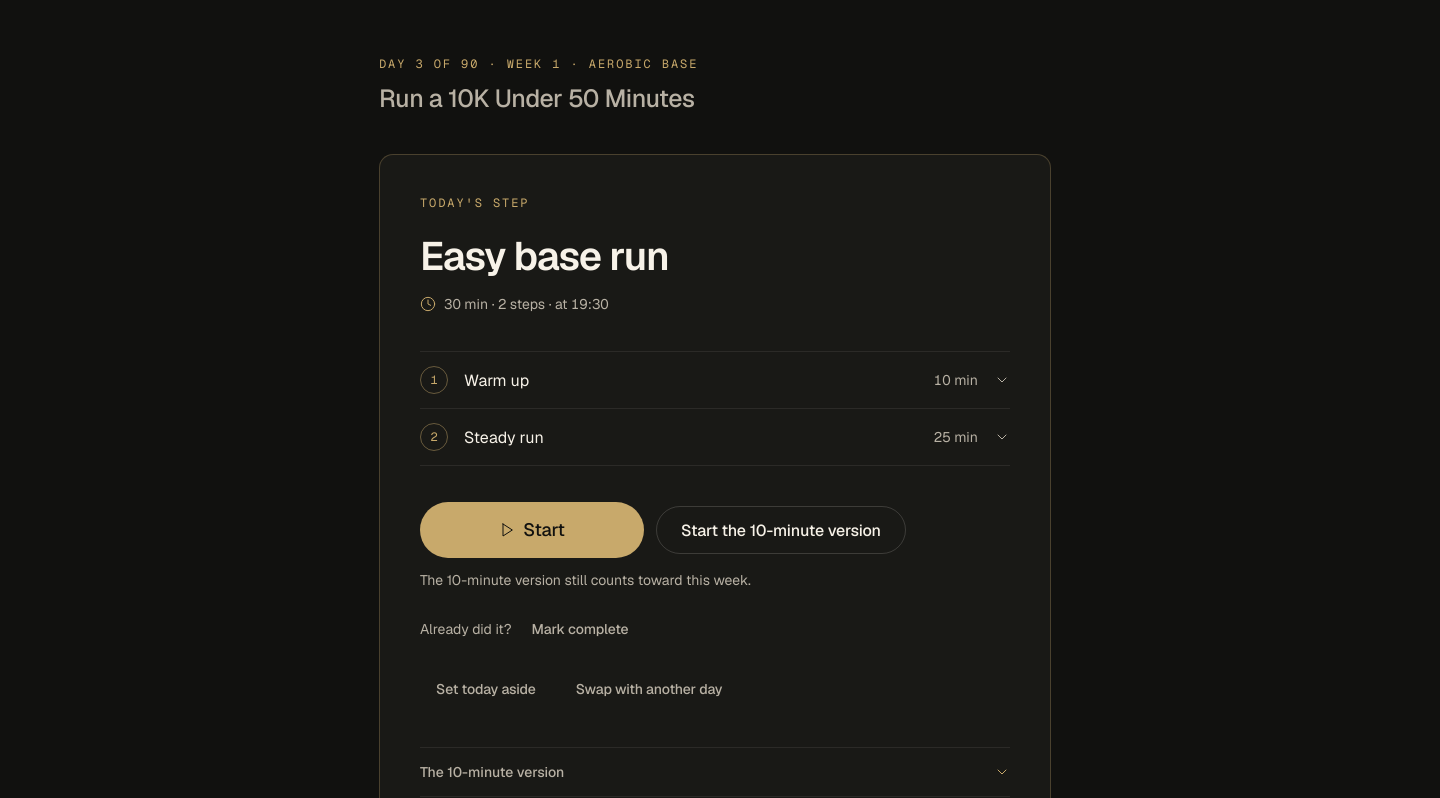
Test: Today › short on time and gentle return (missed sessions M3.2) › short on time: Start stays first, the 10-minute version is one tap away, with its line under the buttons
Expected: the text "The 10-minute version still counts toward this week." is shown, [420,572,751,590]
Click the button "Start the 10-minute version": (781, 530) [656,506,906,554]
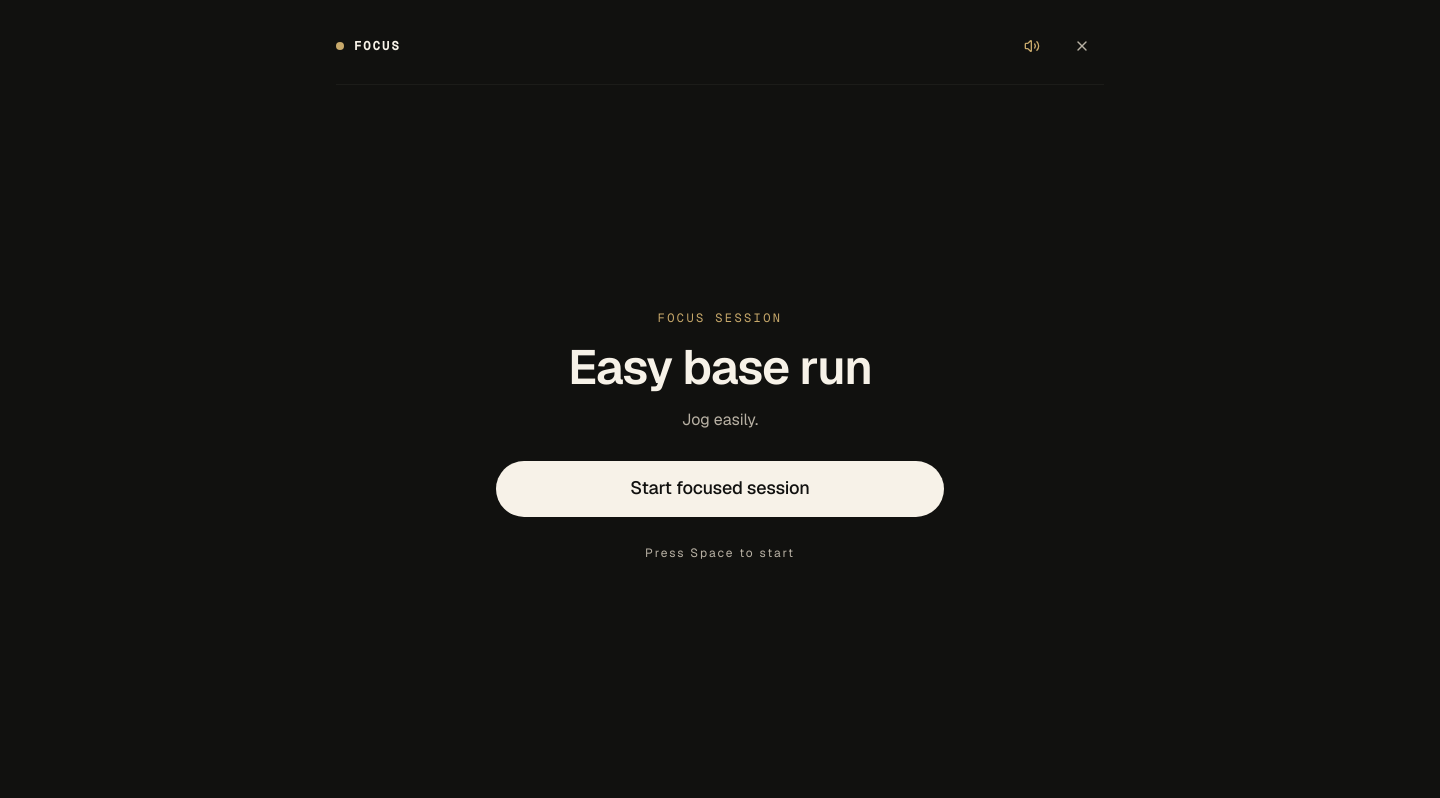
Click the button "Start focused session": (720, 488) [496,460,944,516]
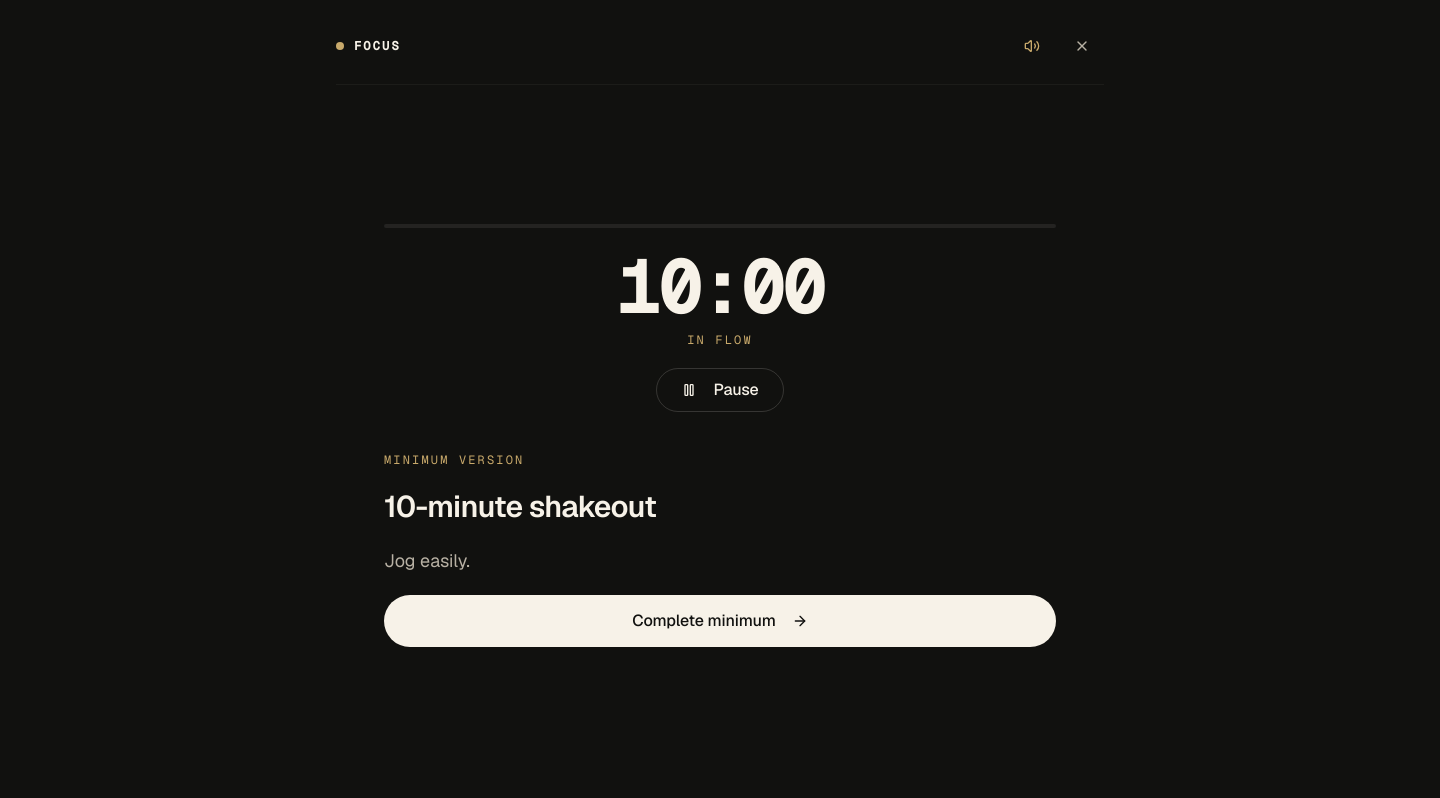
Expected: the text "Minimum version" is shown, [384,452,524,468]
